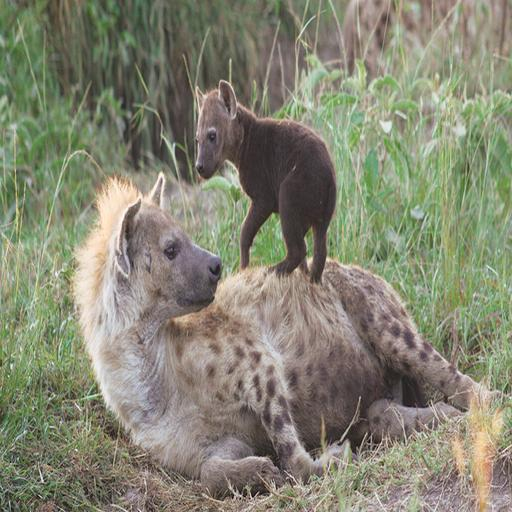Hyena: (66, 169, 502, 499), (193, 78, 339, 285)
